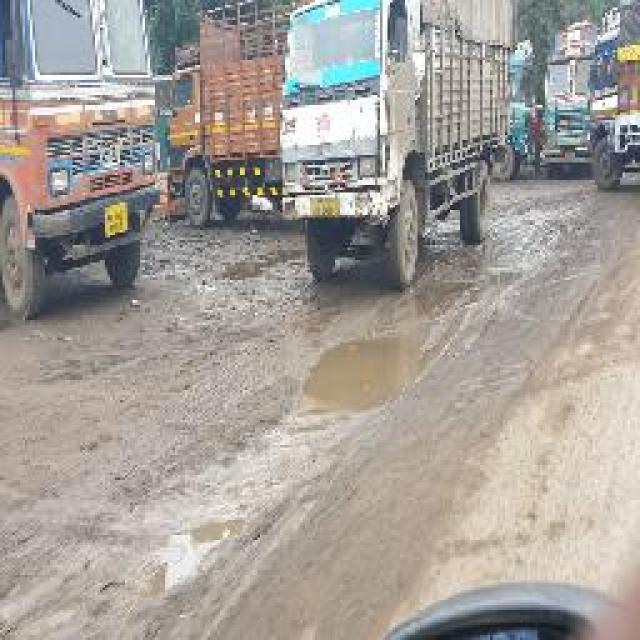waterlogging: (312, 328, 433, 417)
